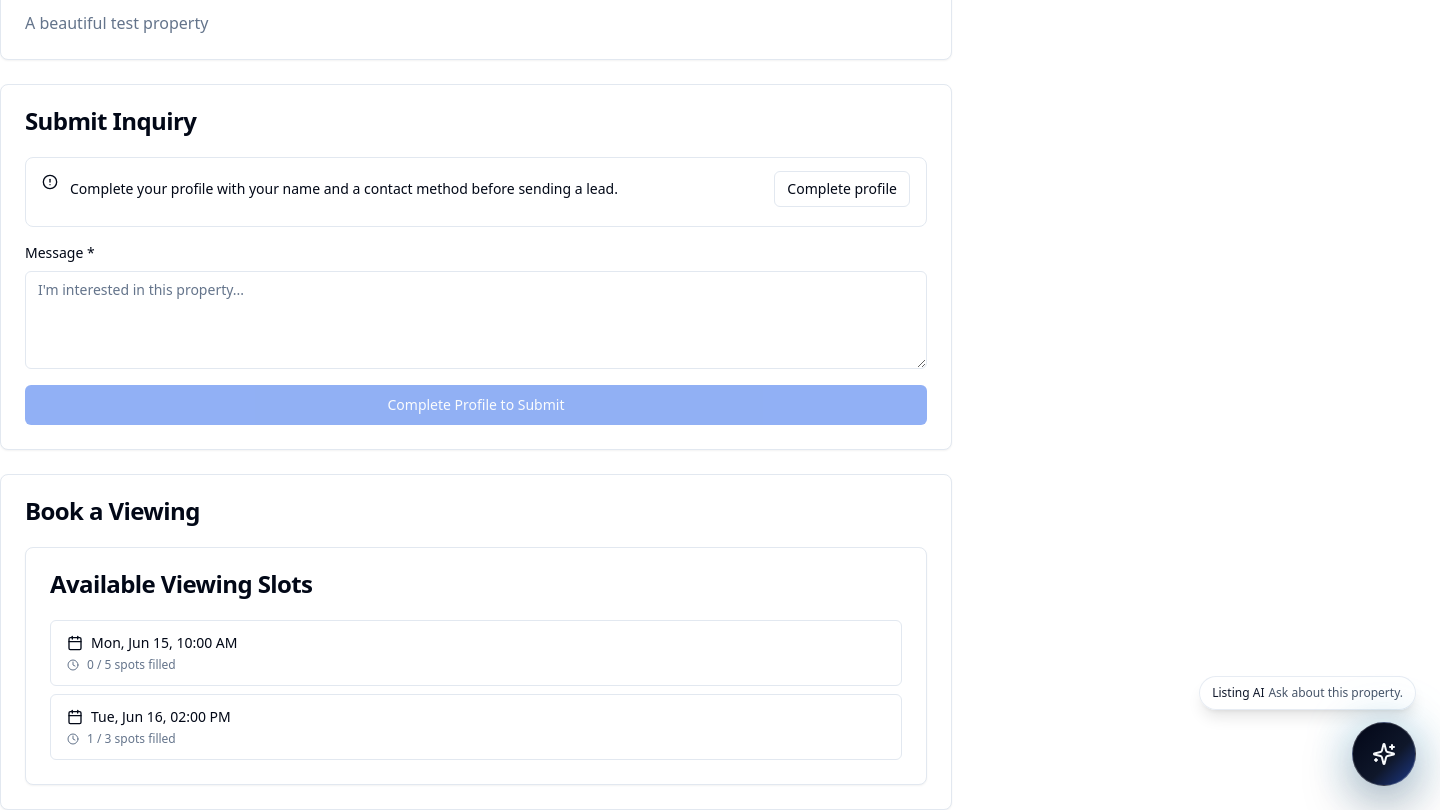
Scenario: Viewing Booking Flow › allows selecting a viewing slot
(page scrolled)
Expected: the text "Available Viewing Slots" is shown, [50,567,312,600]
Click the button "Mon, Jun 15, 10:00 AM 0 / 5 spots filled". click: (164, 642)
box: [50,620,902,686]
(page scrolled)
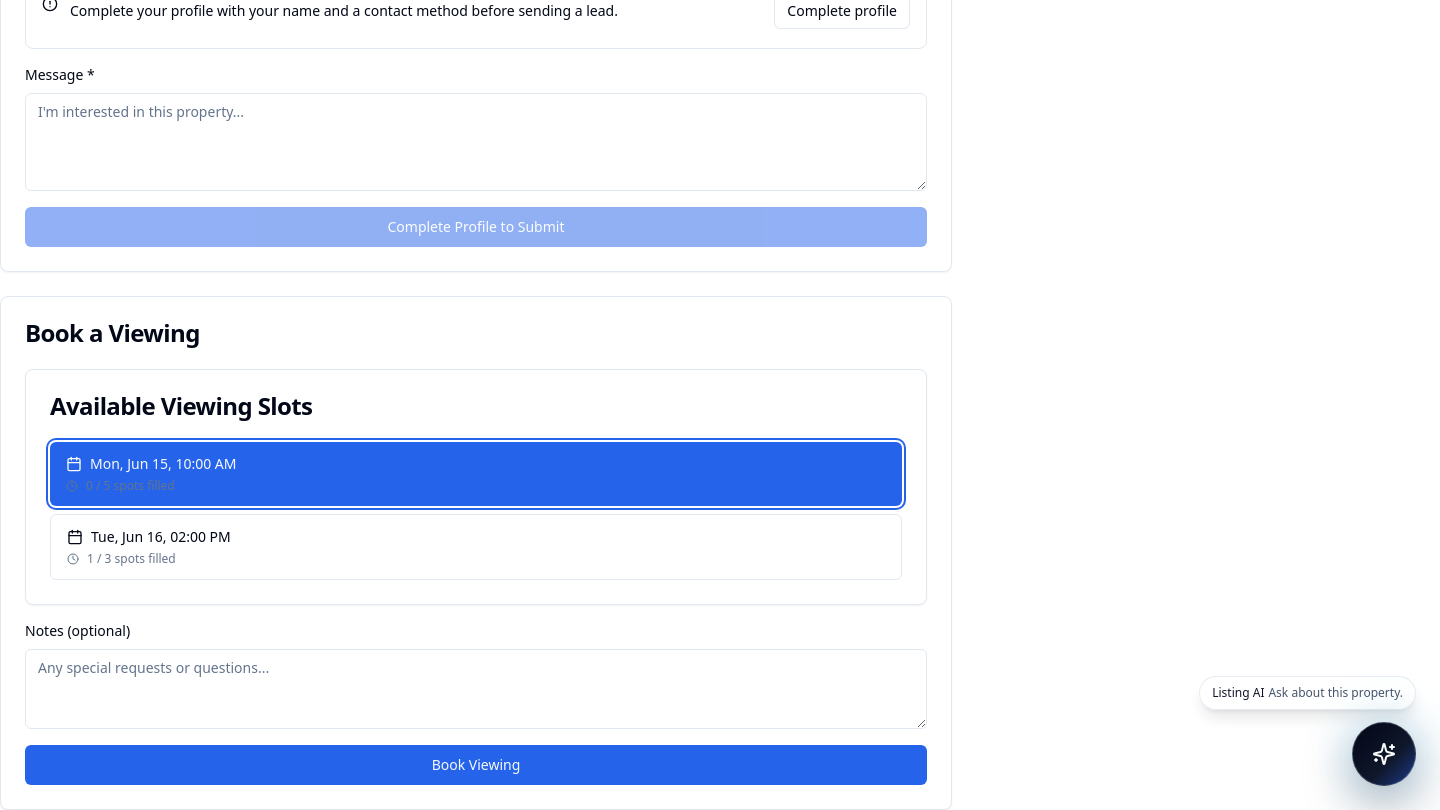
Expected: the button "Book Viewing" is shown, [25,745,927,785]
